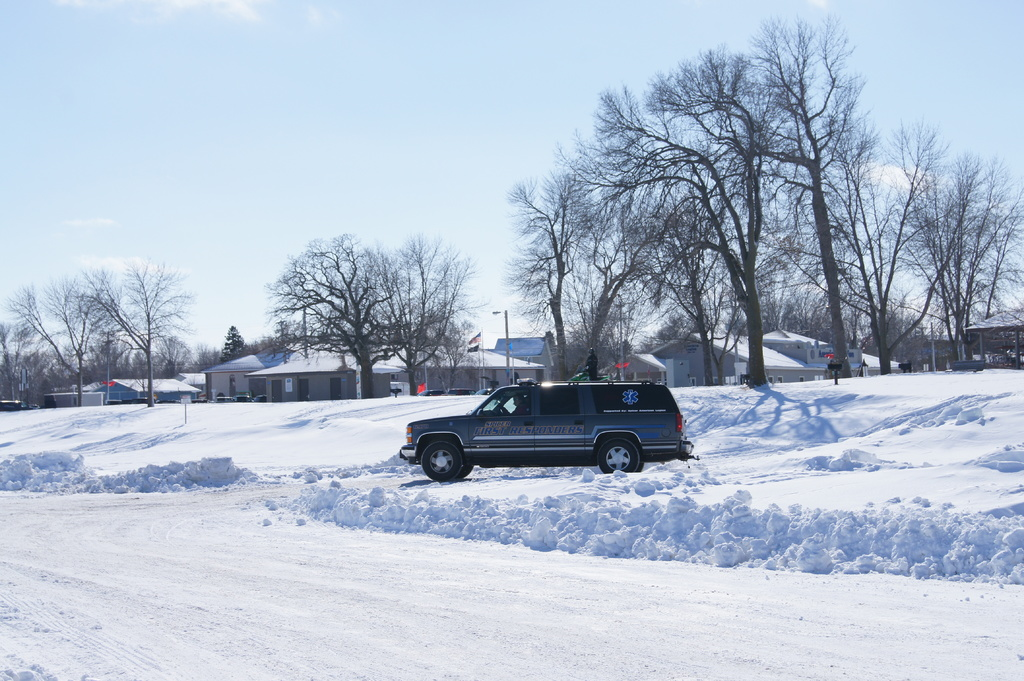Car: (404, 357, 681, 483), (105, 393, 268, 403), (0, 399, 39, 412)
